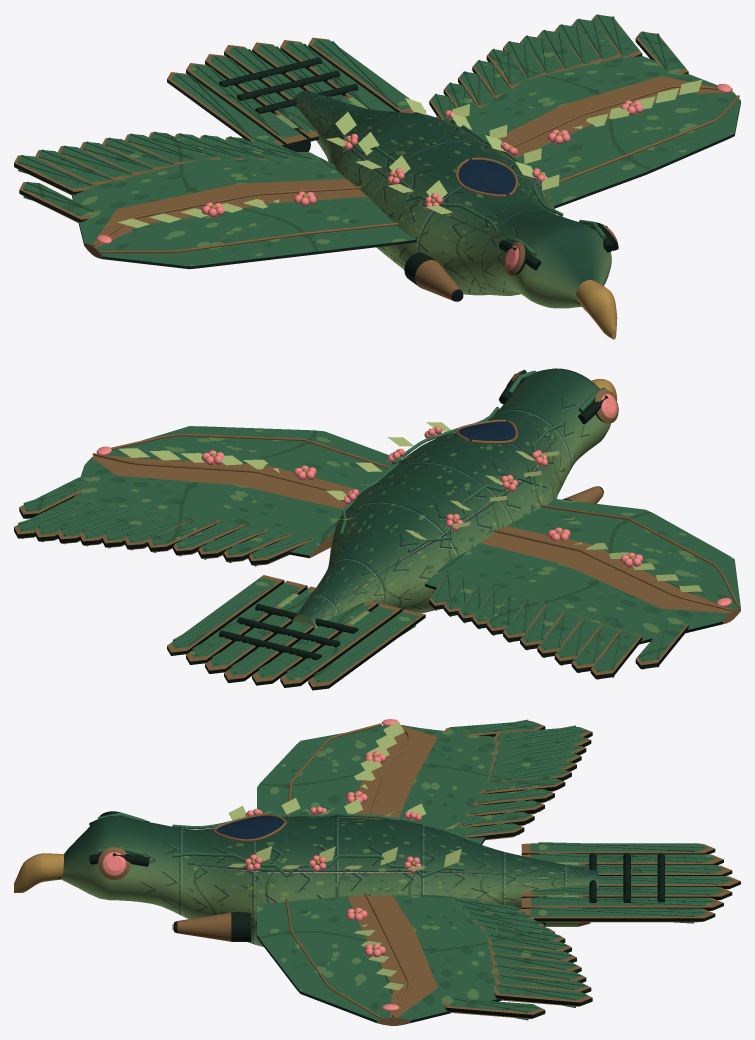
The picture shows the model from 3 angles, top to bottom: view 1: azimuth 30°, elevation 25°; view 2: azimuth 150°, elevation 25°; view 3: azimuth 270°, elevation 25°; orthographic projection. The views are drawn at different scales.
Visible parts, largest first — view 1: goshawk_hull; view 2: goshawk_hull; view 3: goshawk_hull.
Part boxes in pixels (left/top/right/bottom): goshawk_hull: left=14, top=14, right=740, bottom=339; goshawk_hull: left=14, top=368, right=740, bottom=690; goshawk_hull: left=14, top=719, right=740, bottom=1025.
Size of the model in its own units: 40.23 by 7.54 by 42.
1 material, 1 textured.
